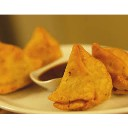samosa: (57, 42, 110, 108), (1, 41, 41, 94), (93, 38, 128, 94), (29, 25, 61, 64)
